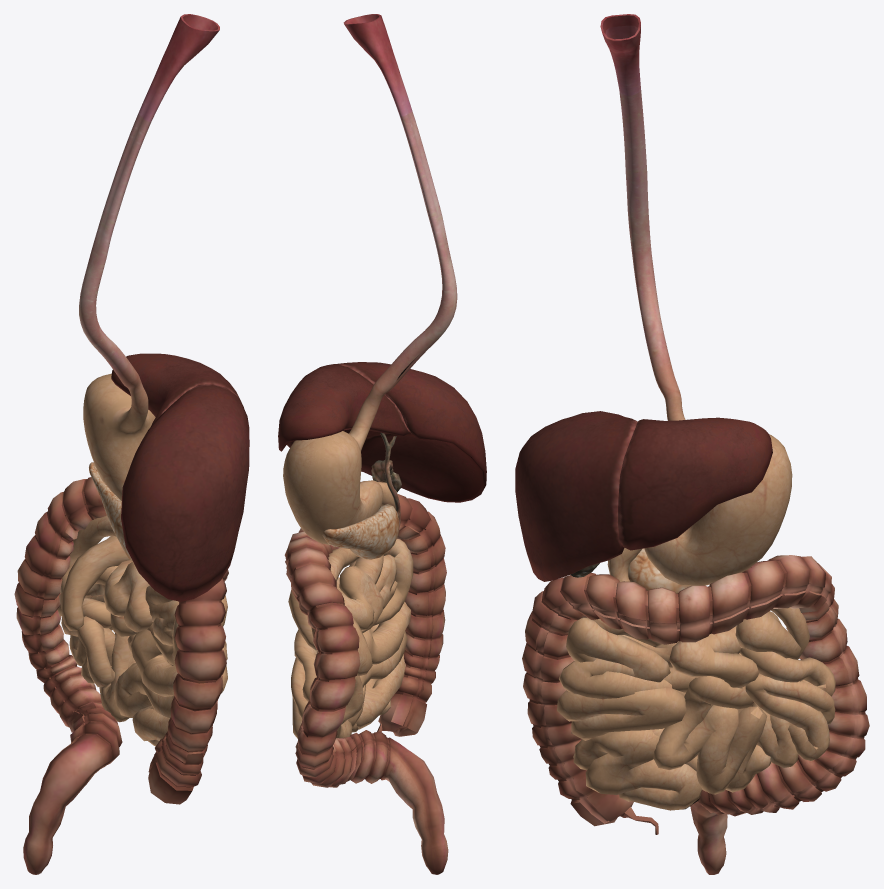
The picture shows the model from 3 angles, left to right: view 1: azimuth 30°, elevation 25°; view 2: azimuth 150°, elevation 25°; view 3: azimuth 270°, elevation 25°; orthographic projection. The views are drawn at different scales.
Parts seen in each view (by area): view 1: DigestiveSystem001_Digestive_System_0; view 2: DigestiveSystem001_Digestive_System_0; view 3: DigestiveSystem001_Digestive_System_0.
Boxes of the visible parts, x1,y1,x2,y2 form: DigestiveSystem001_Digestive_System_0: (14, 14, 249, 874); DigestiveSystem001_Digestive_System_0: (278, 14, 486, 874); DigestiveSystem001_Digestive_System_0: (515, 14, 869, 874).
Bounding box in the file's own units: 14.76 × 67.53 × 23.67.
Materials: 1 (1 with a texture image).
